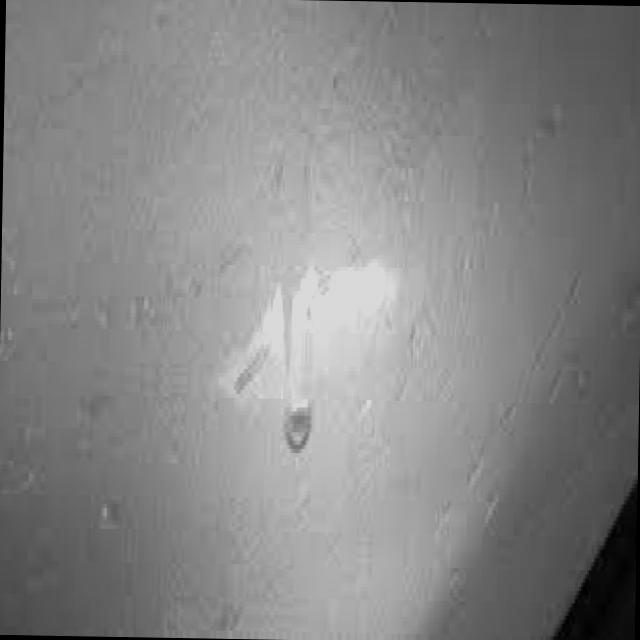paint drips: (187, 200, 423, 545)
